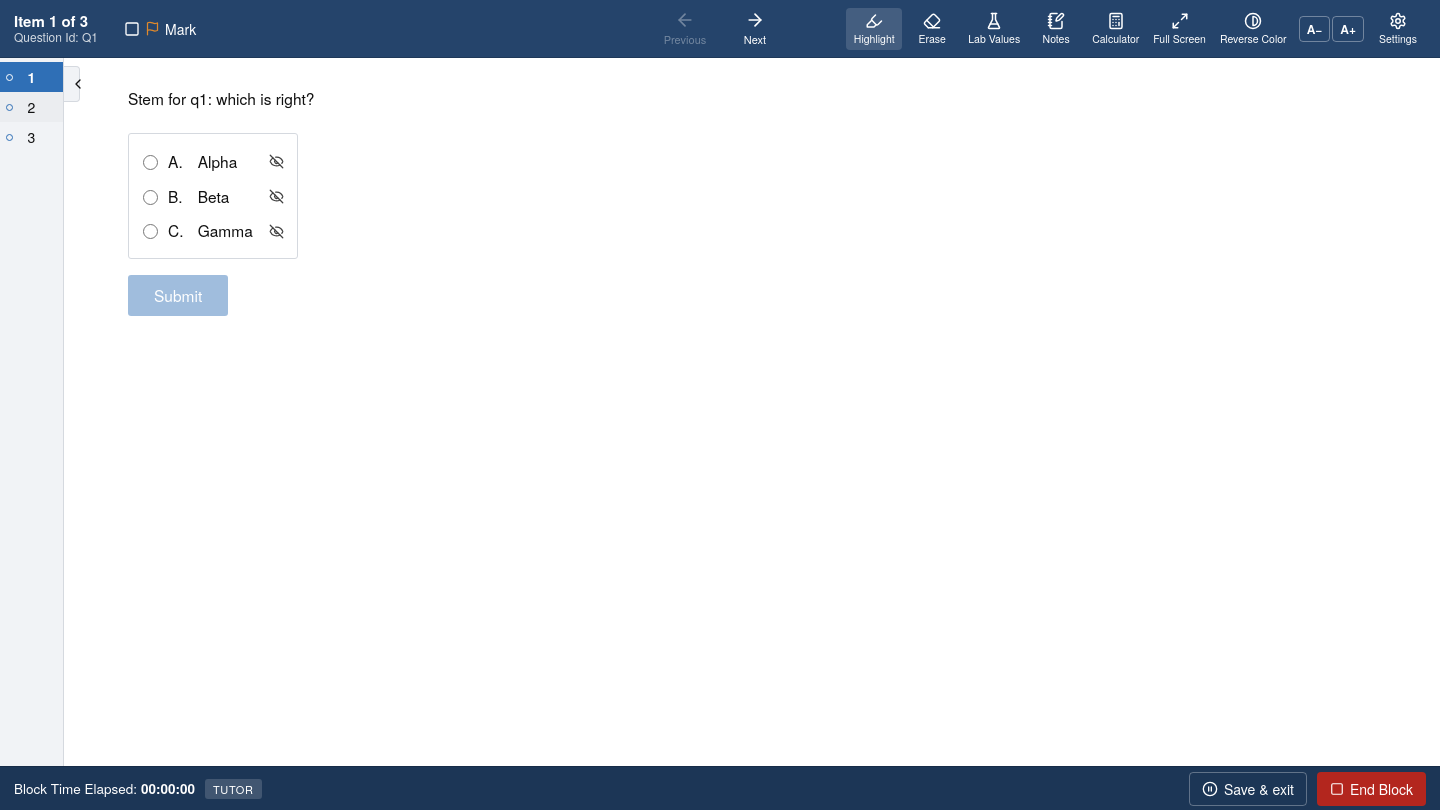
Test case: ExamSimulator › reveals the explanation per item in UWorld tutor mode
Expected: the text "Block Time Elapsed: 00:00:00" is shown, [14,779,195,798]
Click the radio button labelled "C. Gamma" at (150, 232), box [143,224,158,239]
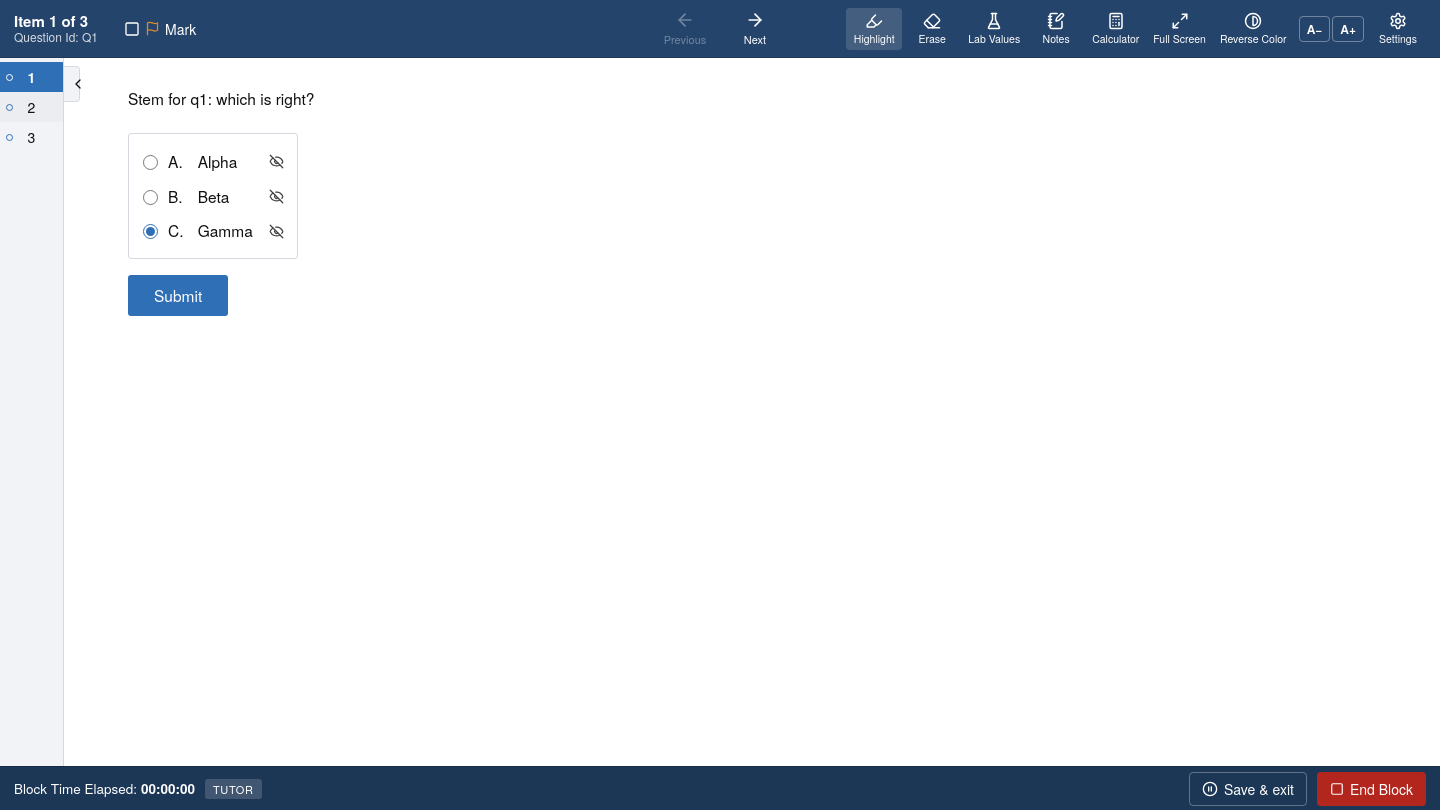
Click the button "Submit" at (178, 296), box [128,275,228,316]
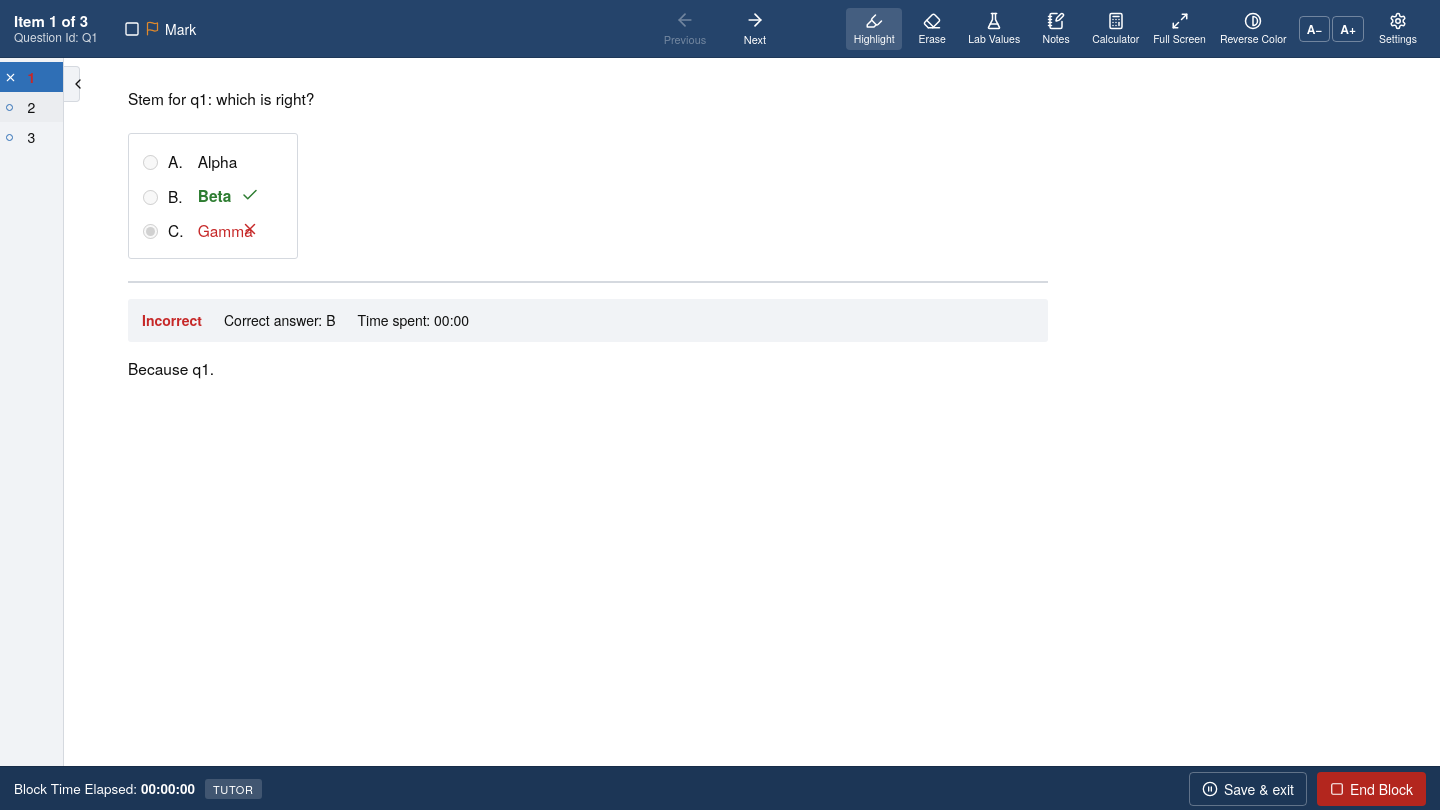
Now the text "Incorrect" is shown, box [142,309,202,332]
Now the text "Correct answer: B" is shown, box [224,309,336,332]
Now the text "Because q1." is shown, box [128,357,214,379]
